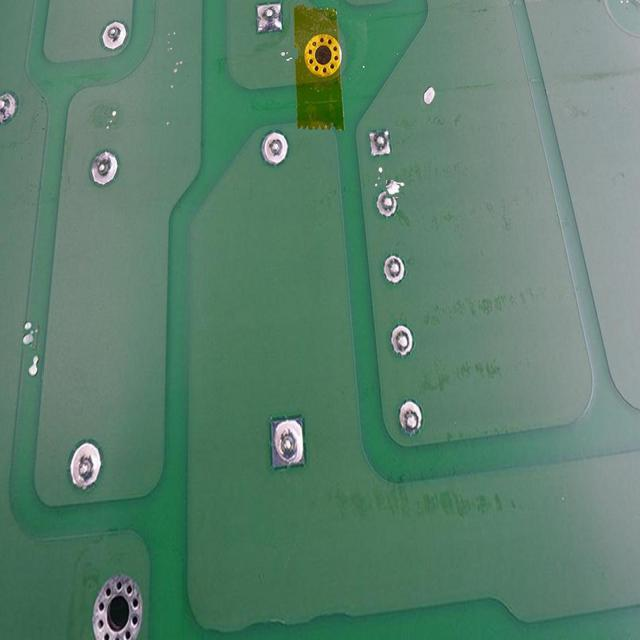spillover: (419, 83, 435, 112), (23, 321, 39, 349), (26, 355, 44, 379), (104, 103, 118, 130), (386, 180, 405, 198), (279, 45, 296, 62)
